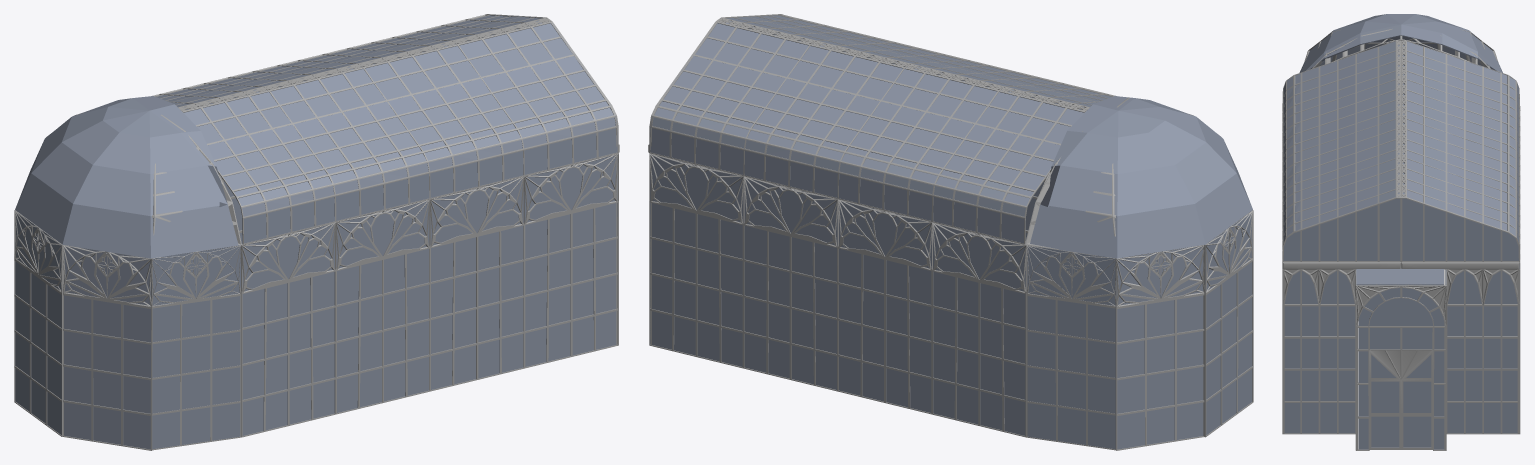
The model's file is greenhouse.fbx.
3 views of the same model, side by side, from view 1: azimuth 30°, elevation 25°; view 2: azimuth 150°, elevation 25°; view 3: azimuth 270°, elevation 25° (orthographic). The views are drawn at different scales.
Visible parts, largest first — view 1: pCube24, pSphere6, pCube25, pCube26, pCube35, pCube37, pCube33, pCube39, pCube27, pCube36, pCube34, pCube19 (+10 smaller); view 2: pCube24, pSphere6, pCube25, pCube26, pCube35, pCube37, pCube33, pCube39, pCube27, pCube36, pCube34, pCube19 (+10 smaller); view 3: polySurface2, polySurface1, pCube35, pCube37, pCube33, pCube39, pCube28, pSphere6, pCube42, pCube36, pCube34, pCube38 (+7 smaller).
Boxes of the visible parts, x1=… form: pCube24: x1=224, y1=155, x2=616, y2=435; pSphere6: x1=15, y1=96, x2=238, y2=258; pCube25: x1=152, y1=245, x2=240, y2=449; pCube26: x1=64, y1=246, x2=151, y2=449; pCube35: x1=306, y1=38, x2=523, y2=197; pCube37: x1=212, y1=61, x2=429, y2=220; pCube33: x1=400, y1=15, x2=617, y2=174; pCube39: x1=156, y1=84, x2=334, y2=243; pCube27: x1=15, y1=213, x2=61, y2=434; pCube36: x1=204, y1=60, x2=430, y2=221; pCube34: x1=299, y1=37, x2=523, y2=199; pCube19: x1=241, y1=222, x2=335, y2=437; pCube24: x1=651, y1=155, x2=1046, y2=435; pSphere6: x1=1030, y1=96, x2=1252, y2=258; pCube25: x1=1027, y1=245, x2=1115, y2=449; pCube26: x1=1116, y1=246, x2=1203, y2=449; pCube35: x1=744, y1=38, x2=961, y2=197; pCube37: x1=839, y1=61, x2=1055, y2=220; pCube33: x1=650, y1=15, x2=867, y2=174; pCube39: x1=933, y1=84, x2=1111, y2=243; pCube27: x1=1205, y1=213, x2=1252, y2=434; pCube36: x1=838, y1=60, x2=1063, y2=222; pCube34: x1=744, y1=37, x2=968, y2=198; pCube19: x1=932, y1=222, x2=1026, y2=437; polySurface2: x1=1283, y1=198, x2=1518, y2=433; polySurface1: x1=1282, y1=197, x2=1519, y2=434; pCube35: x1=1283, y1=119, x2=1518, y2=203; pCube37: x1=1283, y1=80, x2=1518, y2=164; pCube33: x1=1283, y1=159, x2=1519, y2=268; pCube39: x1=1283, y1=41, x2=1518, y2=124; pCube28: x1=1358, y1=288, x2=1444, y2=449; pSphere6: x1=1299, y1=14, x2=1502, y2=72; pCube42: x1=1371, y1=355, x2=1431, y2=447; pCube36: x1=1282, y1=79, x2=1520, y2=184; pCube34: x1=1282, y1=118, x2=1520, y2=223; pCube38: x1=1282, y1=40, x2=1520, y2=144.
Size of the model in its own units: 24.59 by 12.04 by 10.73.
